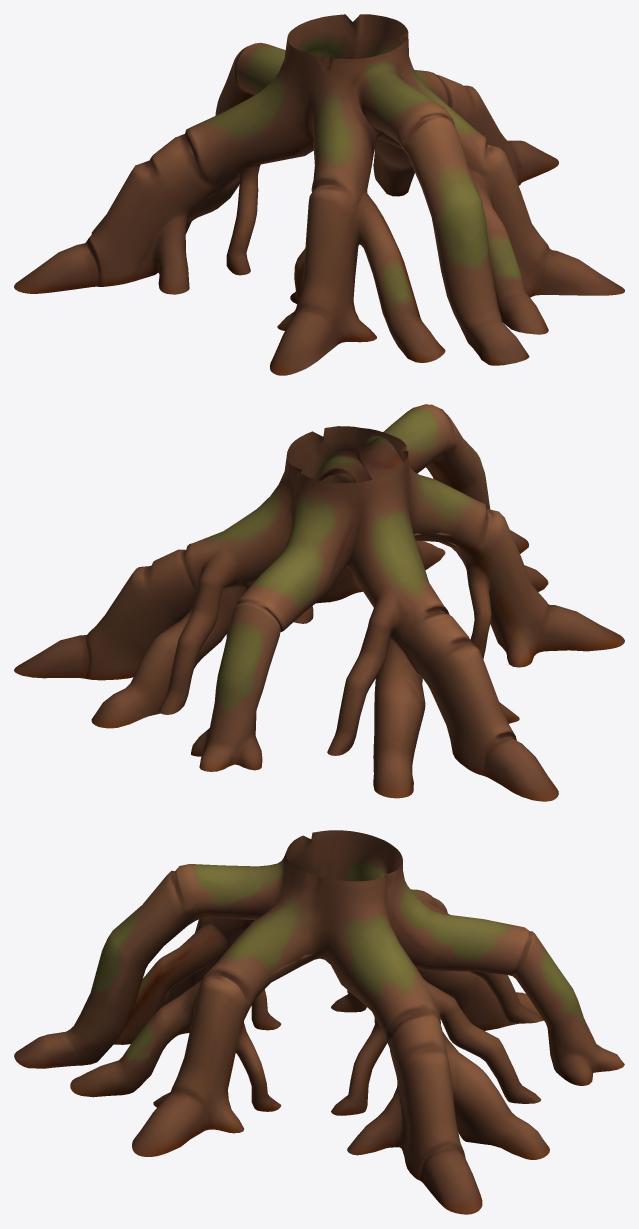
File: Roots_B.fbx
3 renders of one model, top to bottom at view 1: azimuth 30°, elevation 25°; view 2: azimuth 150°, elevation 25°; view 3: azimuth 270°, elevation 25°, orthographic.
Visible parts, largest first — view 1: Roots_B; view 2: Roots_B; view 3: Roots_B.
Boxes of the visible parts, x1,y1,x2,y2 form: Roots_B: [14, 14, 624, 375]; Roots_B: [14, 404, 624, 801]; Roots_B: [14, 830, 624, 1214].
Size of the model in its own units: 3.8 by 1.59 by 3.8.
